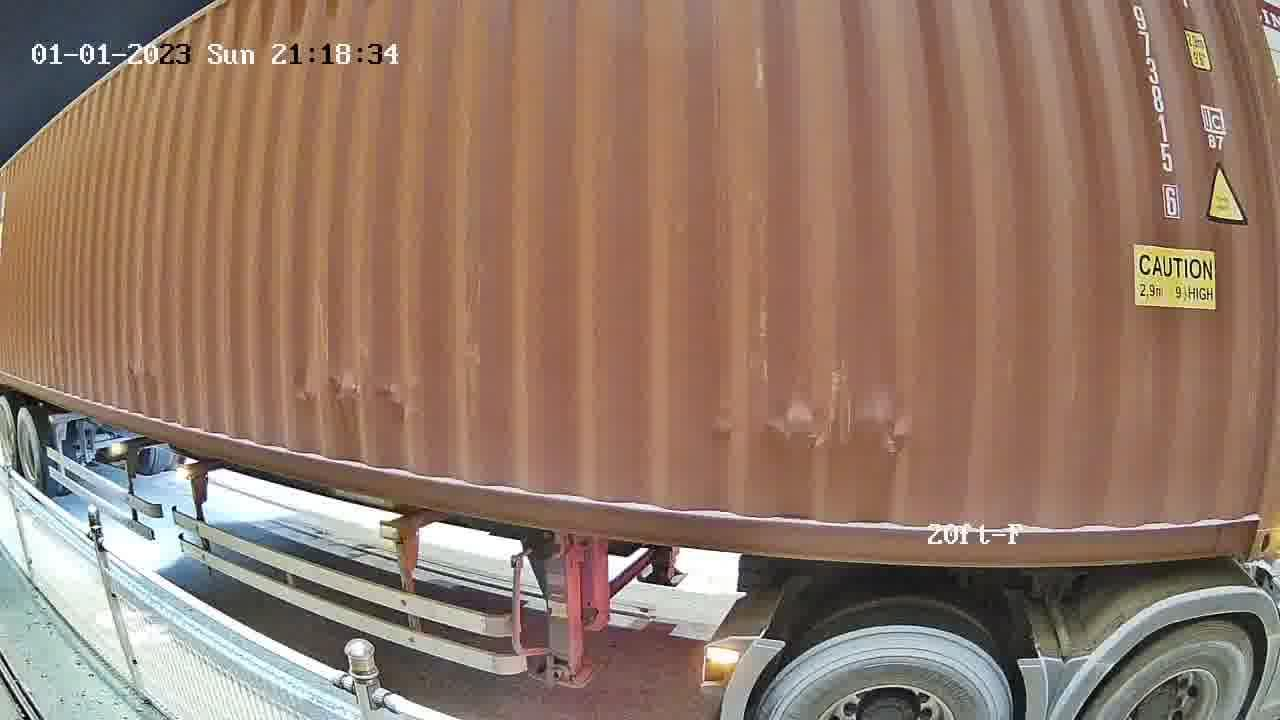Hole_R: (1209, 477, 1279, 555)
Tire: (757, 626, 1016, 718), (1088, 625, 1257, 719)
